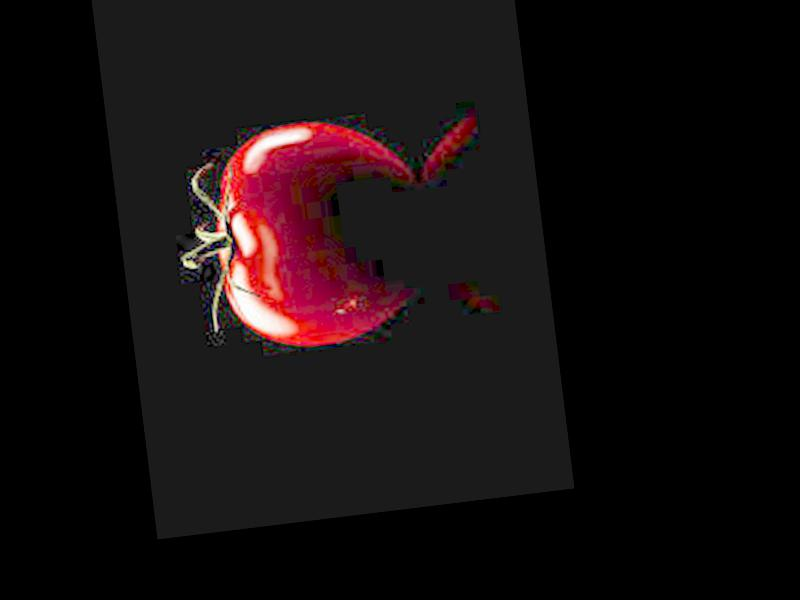Tomato: (198, 112, 426, 357)
